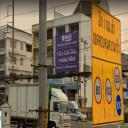speed_limit_100: (104, 76, 113, 106)
speed_limit_120: (113, 65, 122, 92)
speed_limit_80: (94, 76, 102, 106)
